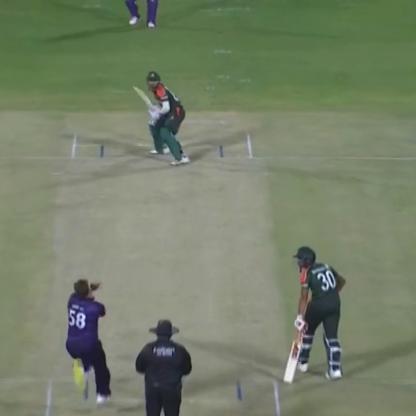bat: (128, 78, 164, 120), (284, 318, 302, 382)
pitch: (39, 126, 290, 416)
